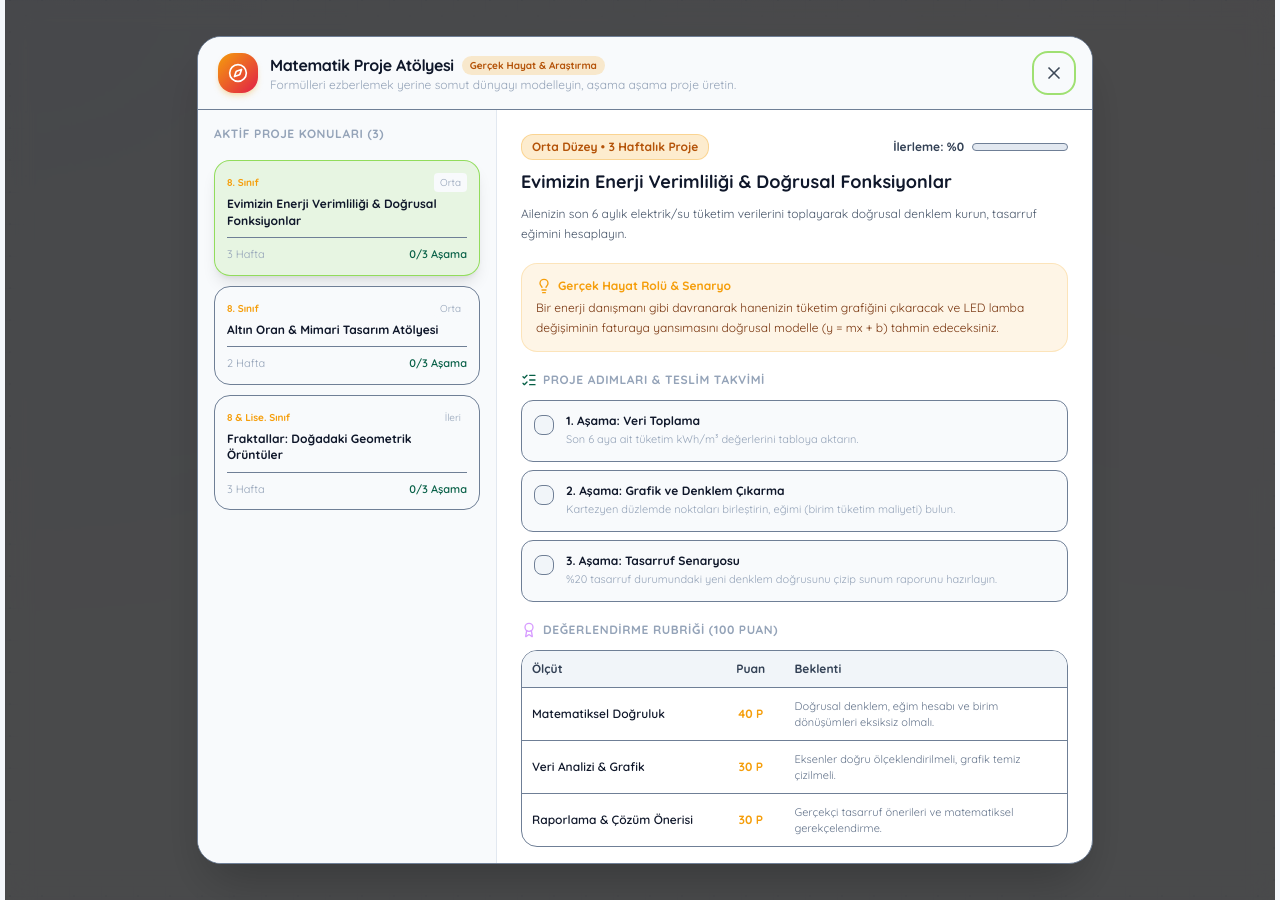
Test: MathProjectWorkshopModal Component › toggles milestone completion when milestone button is clicked
The image size is (1280, 900).
// Click on 1. Aşama
Click the button "1. Aşama: Veri Toplama": point(794, 431) [521, 400, 1068, 462]
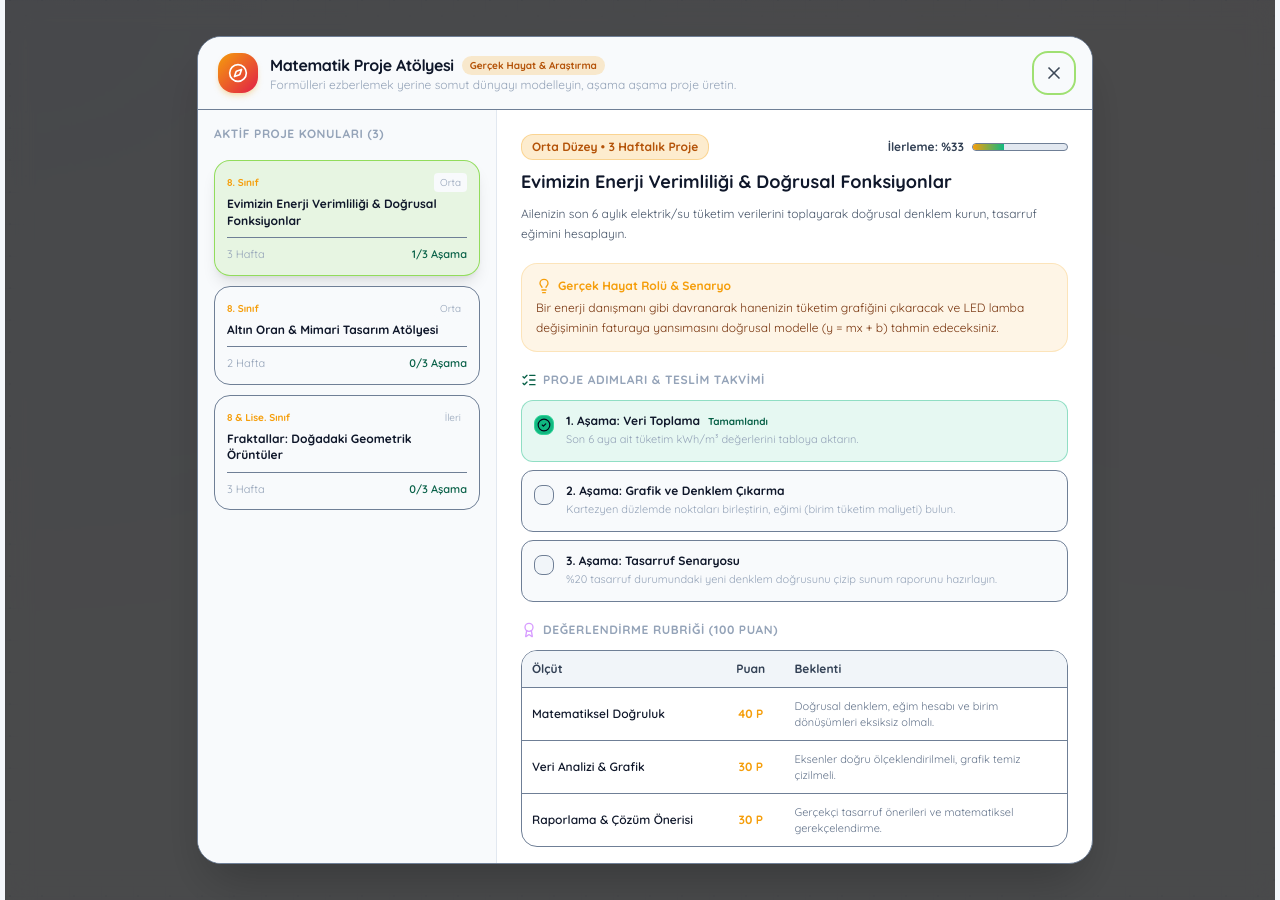
expect the text "Tamamlandı" is shown: met, box [708, 414, 768, 428]
